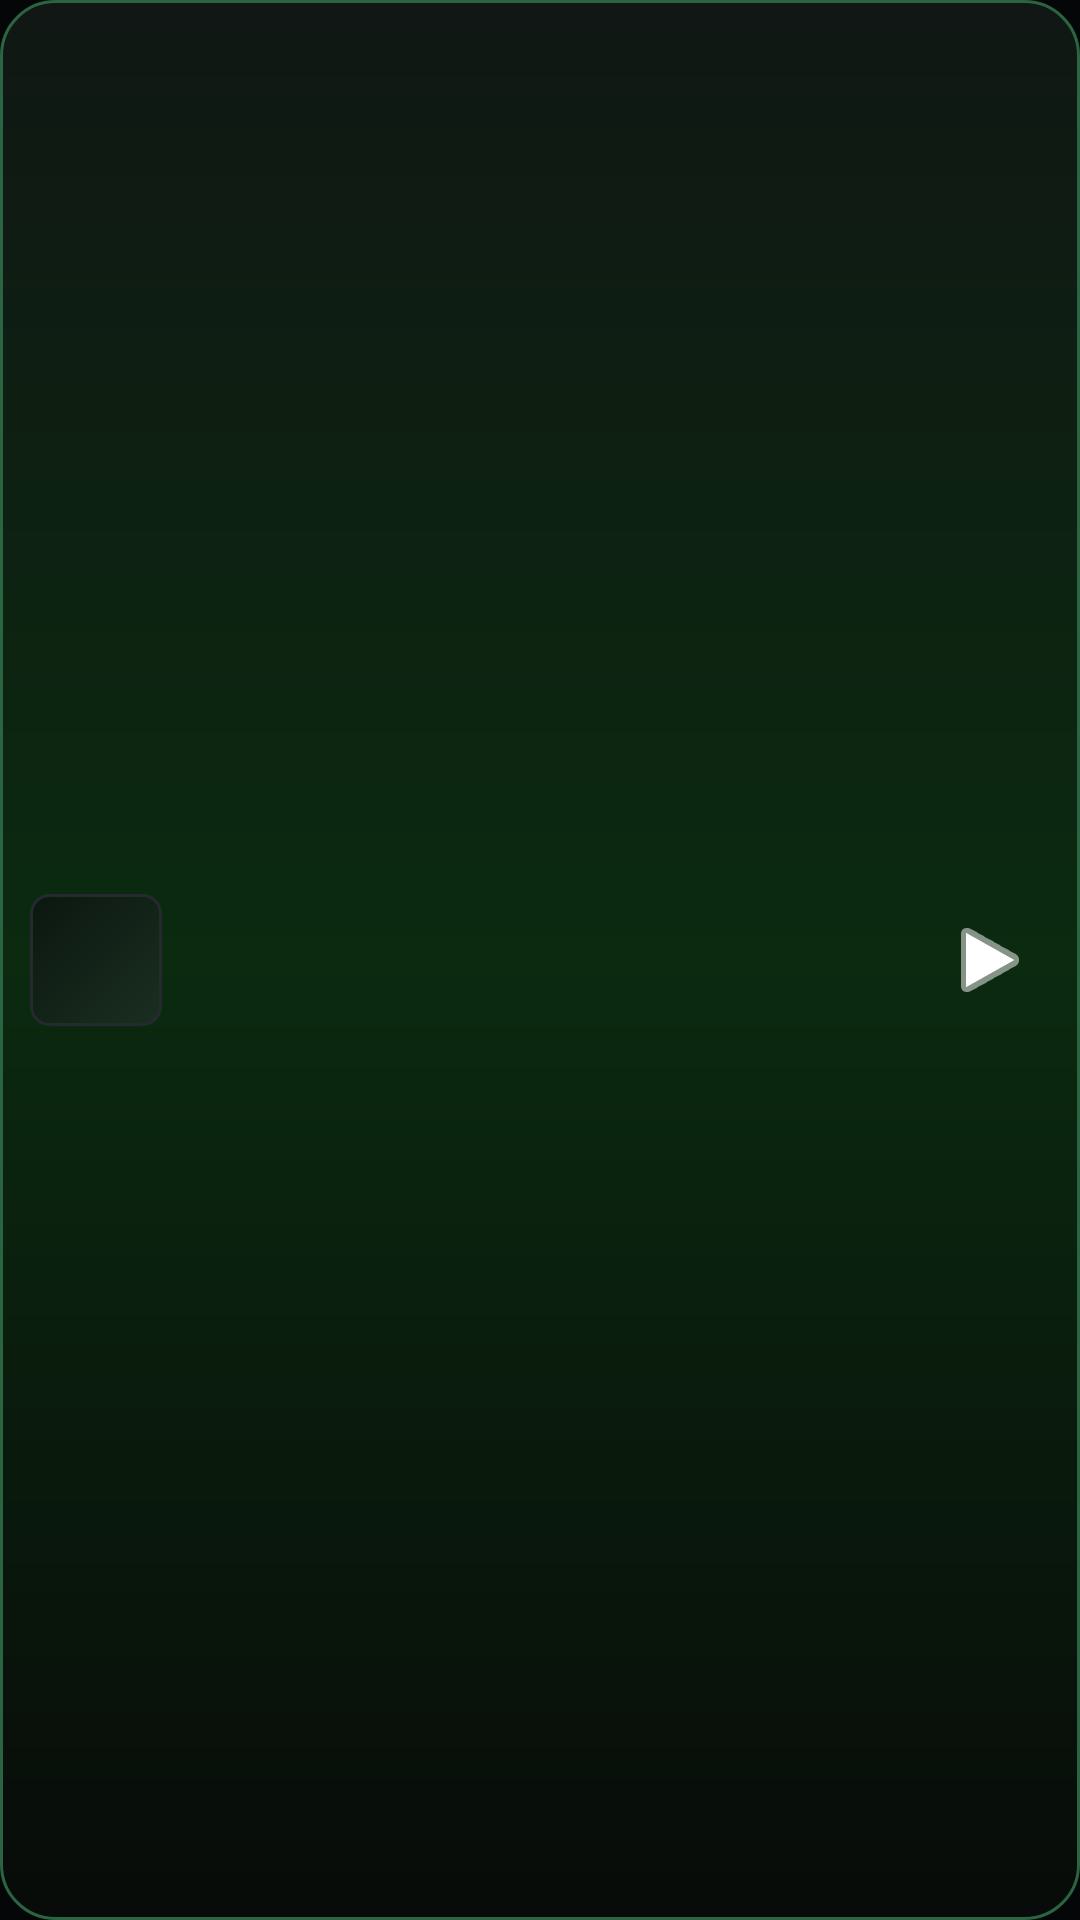

Icon bounding boxes for this 1080 × 1920 phone screenshot, format detection(x1, y1, x2, y2):
play: detection(961, 928, 1019, 992)
